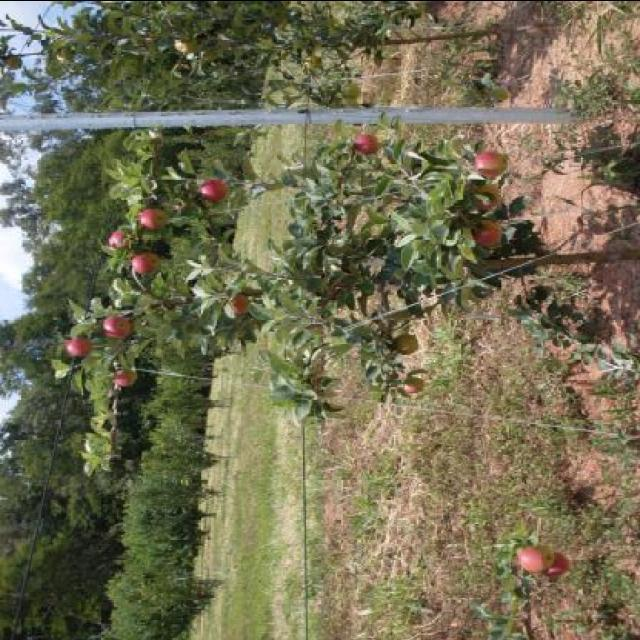Apple pie: (518, 544, 556, 572), (542, 548, 570, 580), (474, 150, 508, 176), (472, 217, 501, 246), (128, 252, 164, 274), (473, 182, 501, 208), (101, 316, 132, 338), (223, 292, 251, 314), (200, 179, 228, 201), (139, 208, 167, 228), (62, 336, 93, 354), (396, 333, 418, 356), (108, 228, 130, 250), (354, 132, 376, 154), (114, 368, 137, 386), (174, 38, 198, 52), (402, 377, 424, 392), (3, 54, 23, 70), (304, 53, 322, 69), (492, 86, 508, 102), (56, 48, 72, 64), (338, 96, 358, 108), (340, 84, 358, 96), (202, 48, 215, 60), (173, 202, 190, 210)
